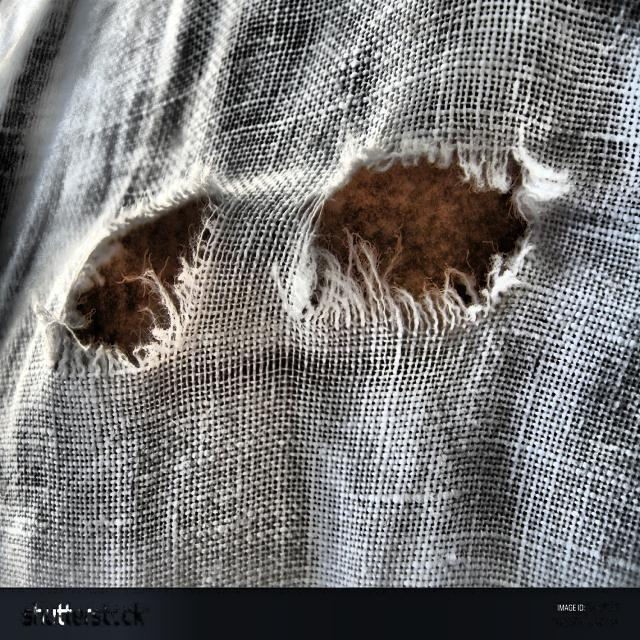cut: (302, 108, 579, 364), (47, 174, 240, 381)
